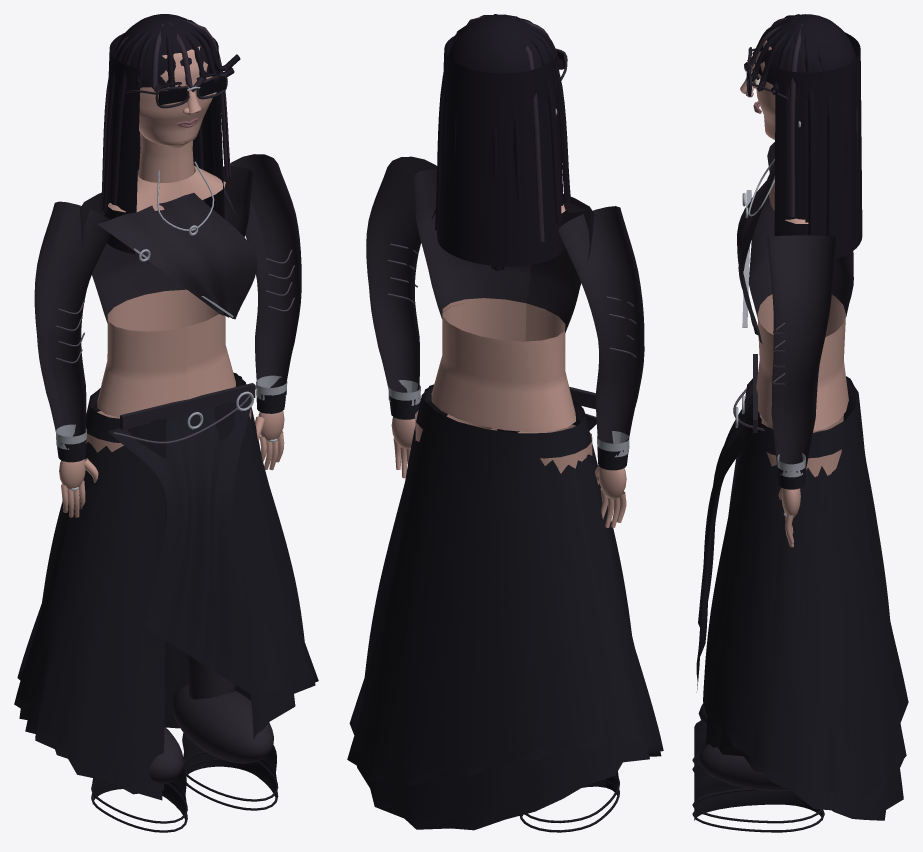
Rendered from look-6-crowd.glb.
The picture shows the model from 3 angles, left to right: view 1: azimuth 30°, elevation 25°; view 2: azimuth 150°, elevation 25°; view 3: azimuth 270°, elevation 25°; orthographic projection. The views are drawn at different scales.
Visible parts, largest first — view 1: look-6-crowd, arm-0, arm-1, leg-1, leg-0; view 2: look-6-crowd, arm-0, arm-1, leg-0; view 3: look-6-crowd, arm-1, leg-1, leg-0.
Boxes of the visible parts, x1,y1,x2,y2 form: look-6-crowd: (14,14,318,800); arm-0: (34,201,110,517); arm-1: (224,154,301,470); leg-1: (172,407,278,810); leg-0: (86,411,187,832); look-6-crowd: (347,14,663,830); arm-0: (558,206,644,527); arm-1: (366,156,436,478); leg-0: (517,424,619,832); look-6-crowd: (696,14,908,820); arm-1: (767,235,836,547); leg-1: (692,430,841,832); leg-0: (692,414,843,772).
Size of the model in its own units: 0.793 by 2.04 by 0.5136.
